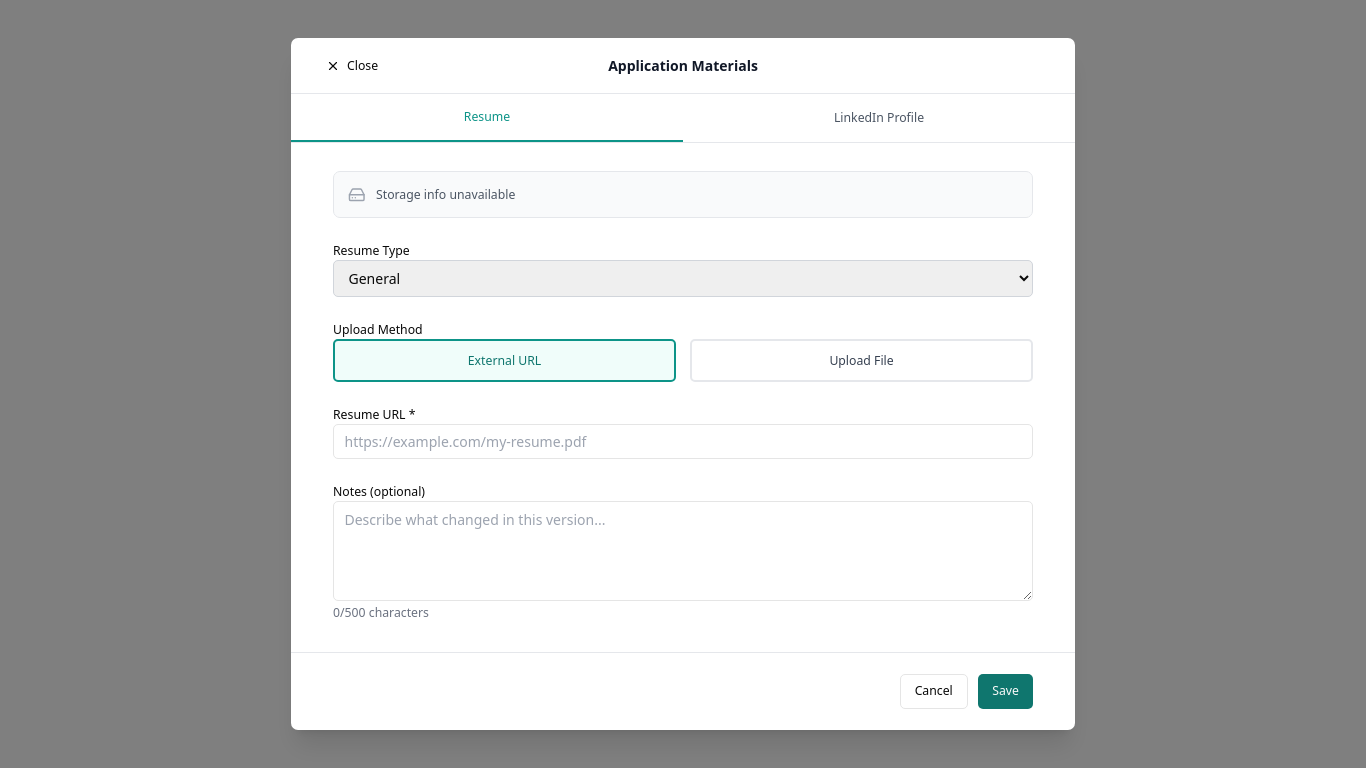
it: ApplicationMaterialsModal › Validation › should show error for invalid resume URL format
Type "not-a-valid-url" into the field labelled "Resume URL *" at (683, 441), box [333,424,1033,459]
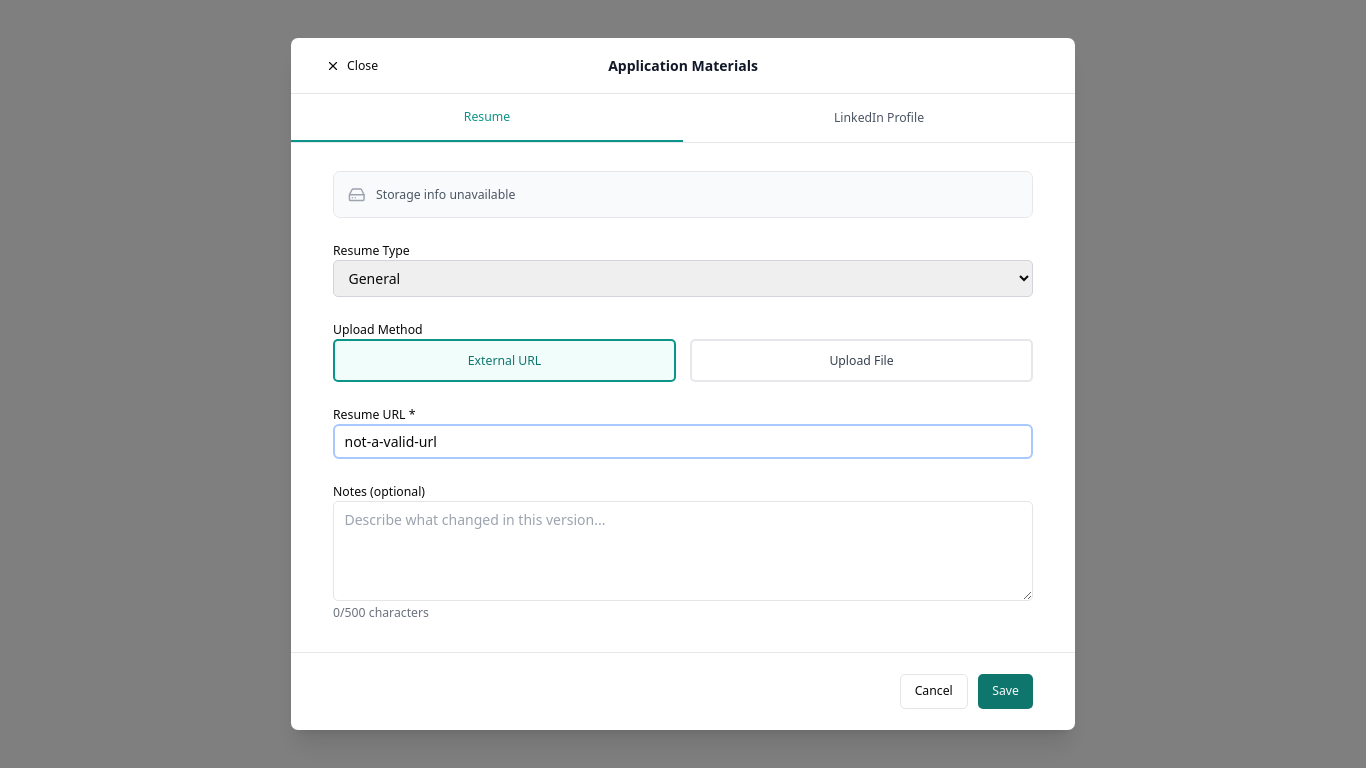
Click the button "Save" at (1006, 691), box [978,674,1033,709]
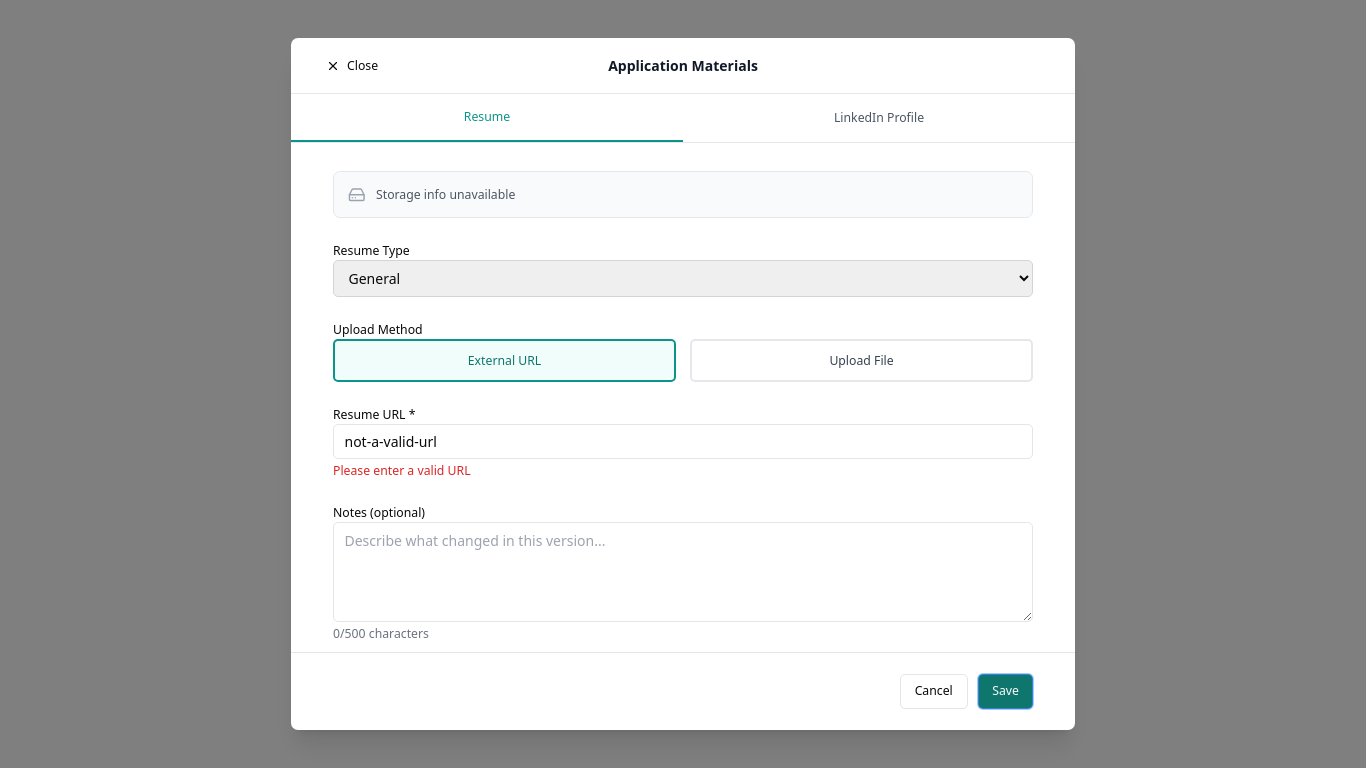
Expected: the text "Please enter a valid URL" is shown, [333,462,471,479]
